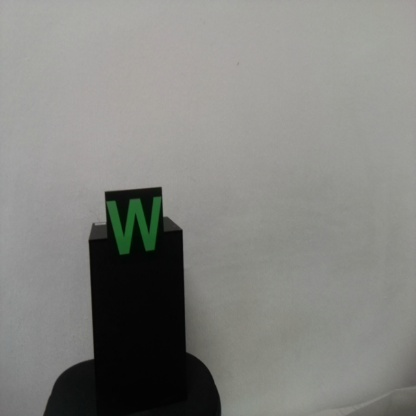id_12: (106, 191, 165, 272)
